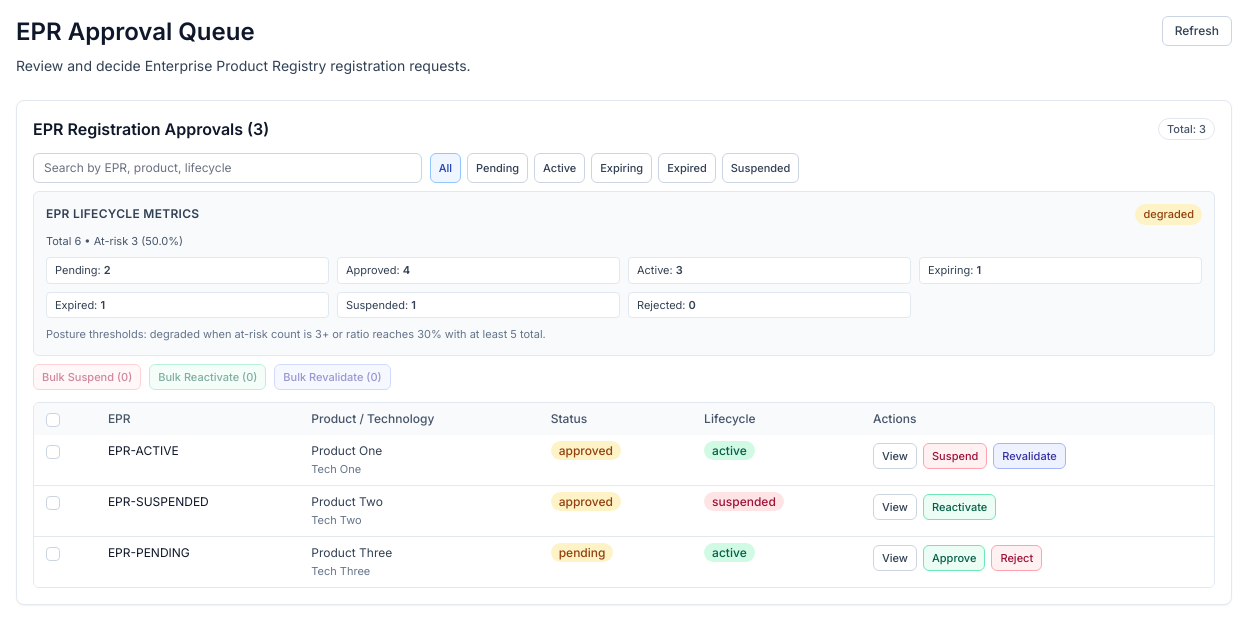
it: QuarantineReviewWorkbenchPage › filters EPR queue by lifecycle tabs in epr mode
The image size is (1249, 622).
Expected: the heading "EPR Registration Approvals (3)" is shown, [33,117,269,141]
Expected: the text "EPR-ACTIVE" is shown, [96,435,299,486]
Click the button "Suspended". click: (761, 168)
box: [722,153,799,183]
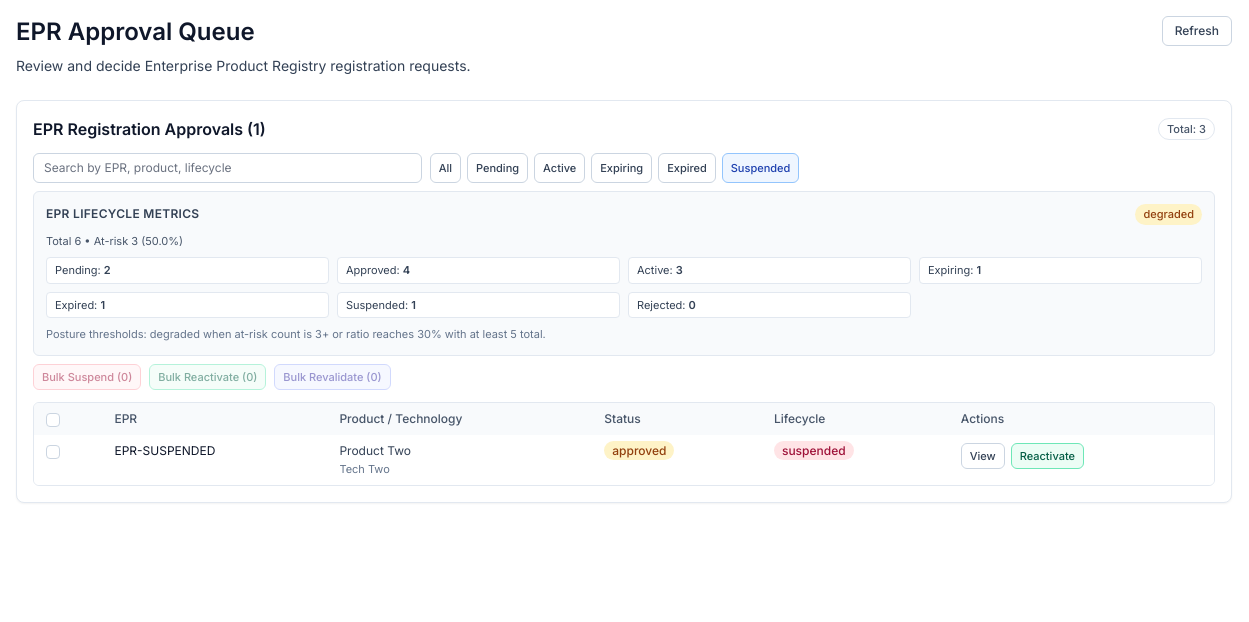
Expected: the heading "EPR Registration Approvals (1)" is shown, [33,117,266,141]
Expected: the button "EPR-ACTIVE" is gone
Expected: the button "EPR-PENDING" is gone
Click the button "Pending". click: (498, 168)
box: [467,153,528,183]
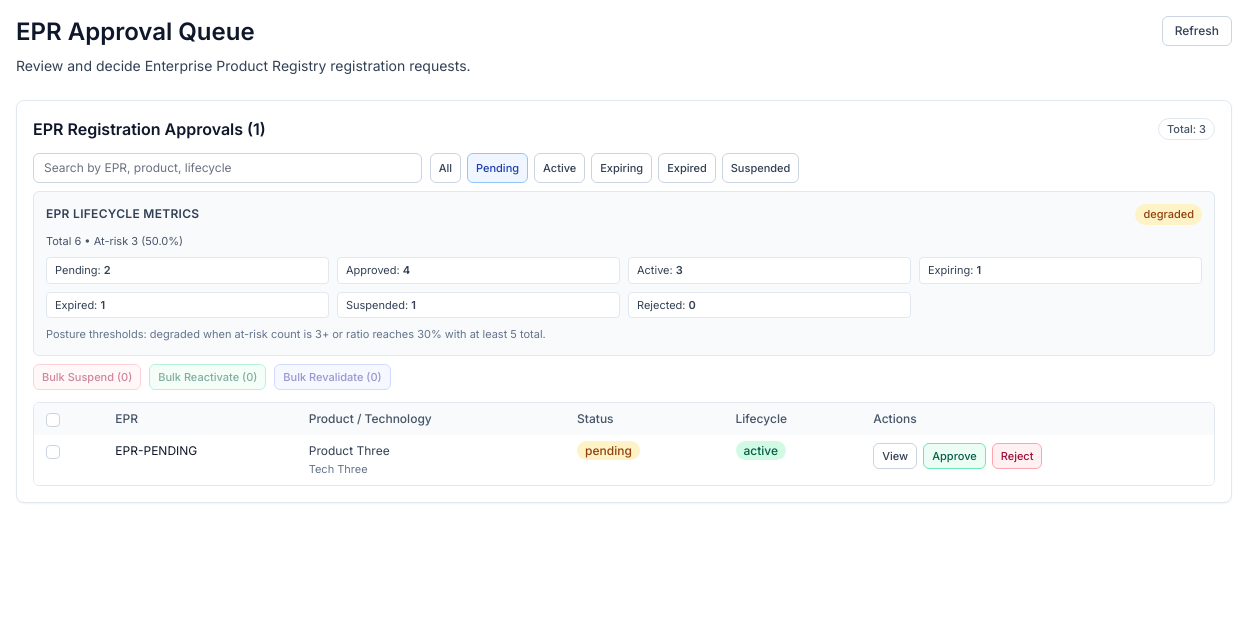
Expected: the heading "EPR Registration Approvals (1)" is shown, [33,117,266,141]
Expected: the button "EPR-SUSPENDED" is gone
Expected: the text "EPR-PENDING" is shown, [103,435,297,485]
